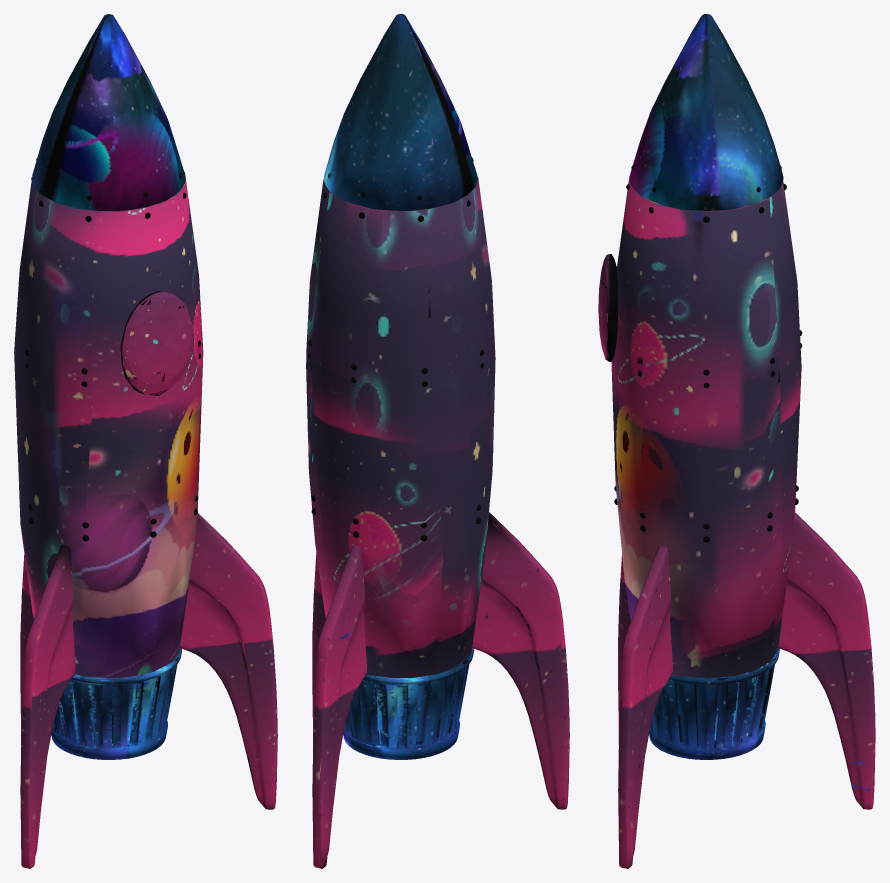
The model's file is ghjobj.obj.
3 renders of one model, left to right at view 1: azimuth 30°, elevation 25°; view 2: azimuth 150°, elevation 25°; view 3: azimuth 270°, elevation 25°, orthographic.
Parts seen in each view (by area): view 1: Cylinder.1, Cube_0.1, Cylinder, Cylinder.2, Sphere; view 2: Cylinder.1, Cube_0.1, Cylinder, Cylinder.2, Sphere_0.1; view 3: Cylinder.1, Cube_0.1, Cylinder, Cylinder.2, Sphere, Sphere_0.1.
Boxes of the visible parts, bbox=[...] form: Cylinder.1: bbox=[14, 172, 203, 678]; Cube_0.1: bbox=[20, 513, 277, 868]; Cylinder: bbox=[32, 14, 185, 210]; Cylinder.2: bbox=[51, 648, 181, 759]; Sphere: bbox=[120, 291, 193, 395]; Cylinder.1: bbox=[306, 177, 495, 677]; Cube_0.1: bbox=[312, 512, 569, 868]; Cylinder: bbox=[324, 14, 477, 210]; Cylinder.2: bbox=[343, 648, 474, 759]; Sphere_0.1: bbox=[308, 192, 483, 541]; Cylinder.1: bbox=[611, 175, 801, 678]; Cube_0.1: bbox=[618, 512, 875, 868]; Cylinder: bbox=[629, 14, 783, 210]; Cylinder.2: bbox=[649, 648, 779, 759]; Sphere: bbox=[598, 254, 617, 362]; Sphere_0.1: bbox=[614, 183, 802, 542].
Bounding box in the file's own units: 86.73 × 256 × 81.16.
Materials: 2 (2 with a texture image).
